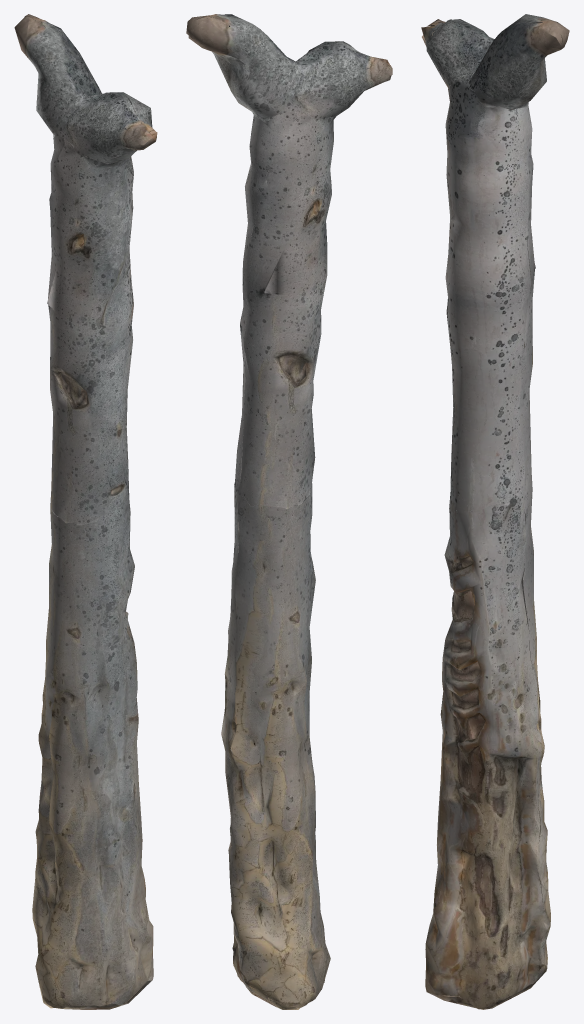
The model's file is deadtrunk.glb.
The picture shows the model from 3 angles, left to right: view 1: azimuth 90°, elevation 25°; view 2: azimuth 150°, elevation 25°; view 3: azimuth 270°, elevation 25°; orthographic projection. The views are drawn at different scales.
Parts seen in each view (by area): view 1: deadtrunk_v0_lod0; view 2: deadtrunk_v0_lod0; view 3: deadtrunk_v0_lod0.
Boxes of the visible parts, x1,y1,x2,y2 form: deadtrunk_v0_lod0: (14, 14, 157, 1009); deadtrunk_v0_lod0: (186, 14, 392, 1009); deadtrunk_v0_lod0: (421, 14, 569, 1009).
Size of what is drawn, in the model's own units: 0.4909 by 3.19 by 0.4306.
1 material, 1 textured.
